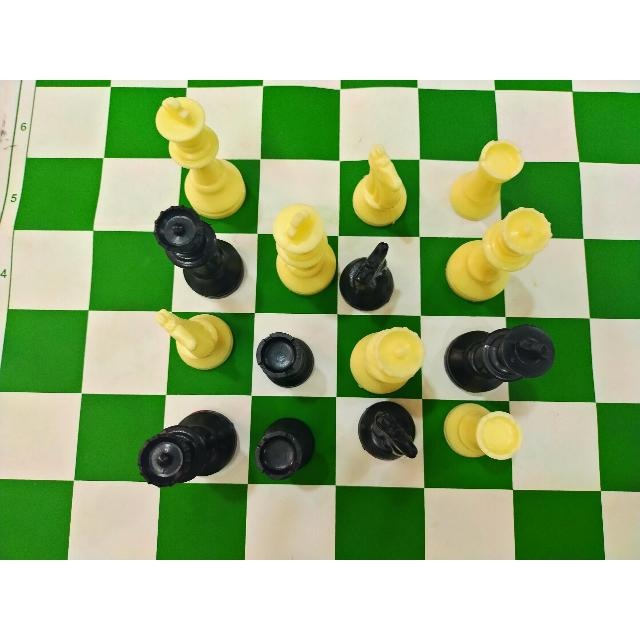black-king: (430, 322, 567, 396)
black-knight: (354, 399, 419, 474), (340, 239, 402, 312)
black-queen: (151, 201, 247, 300), (133, 405, 236, 489)
black-rook: (254, 414, 318, 482), (253, 325, 317, 391)
white-king: (139, 93, 251, 220), (265, 200, 336, 300)
white-knight: (148, 304, 236, 379), (348, 142, 414, 230)
white-queen: (439, 208, 553, 302), (349, 322, 425, 397)
white-rook: (446, 137, 530, 223), (440, 404, 524, 468)
